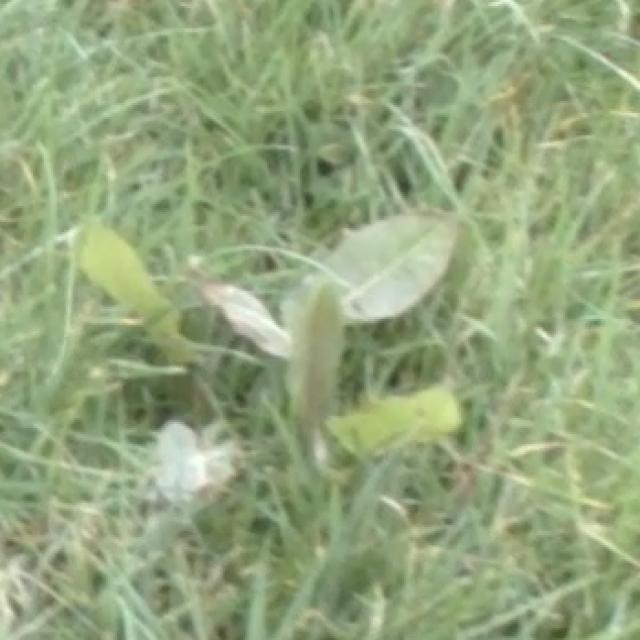organic waste: (0, 148, 532, 515)
